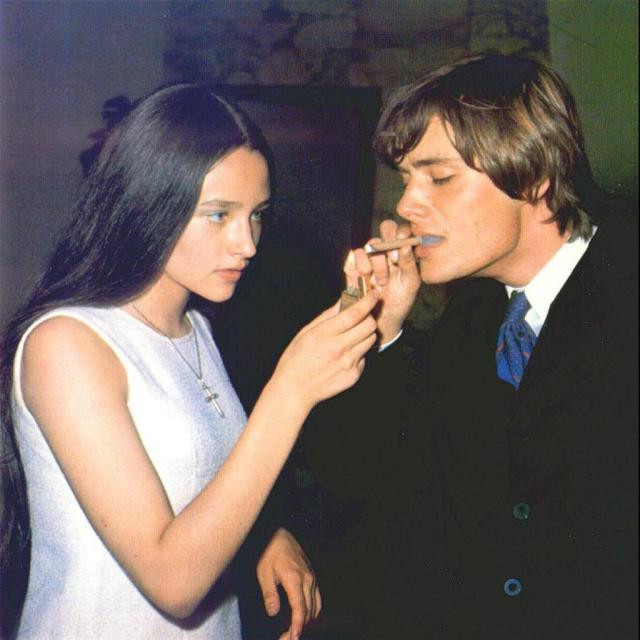smoking: (334, 59, 532, 336)
